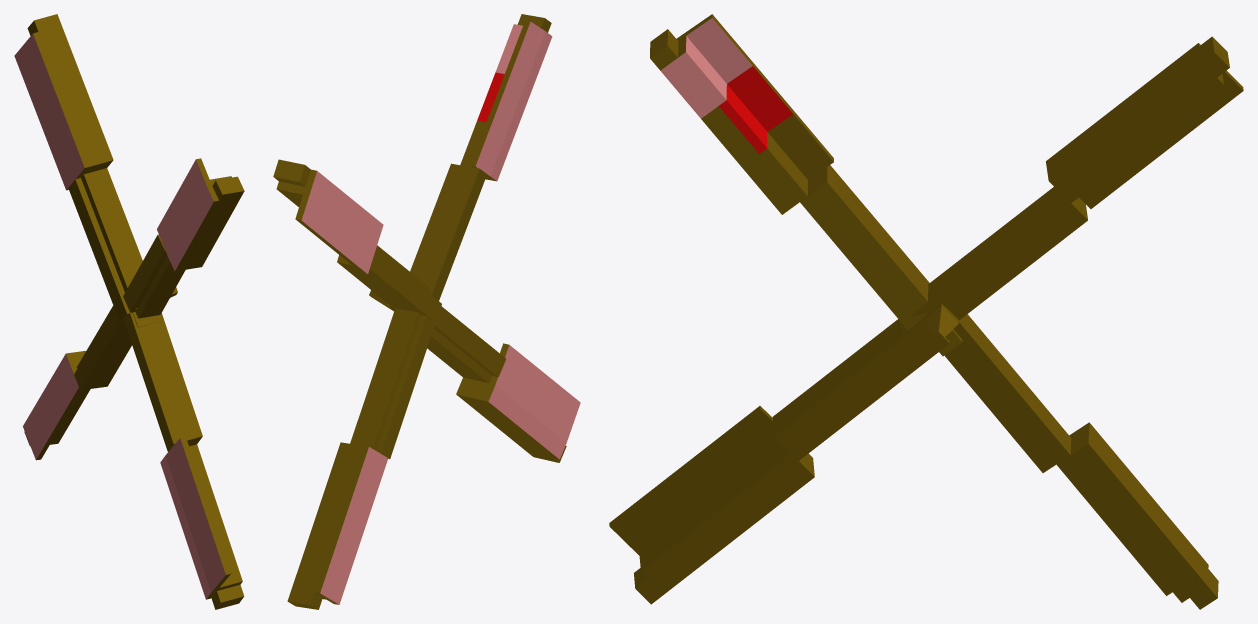
Rendered from Windmill _Blade_Part.fbx.
The picture shows the model from 3 angles, left to right: view 1: azimuth 30°, elevation 25°; view 2: azimuth 150°, elevation 25°; view 3: azimuth 270°, elevation 25°; orthographic projection. The views are drawn at different scales.
Visible parts, largest first — view 1: pCube56; view 2: pCube56; view 3: pCube56.
Part boxes in pixels (left/top/right/bottom): pCube56: left=14, top=14, right=244, bottom=609; pCube56: left=273, top=14, right=580, bottom=609; pCube56: left=609, top=14, right=1243, bottom=609.
Size of the model in its own units: 228 by 1258 by 1252.
